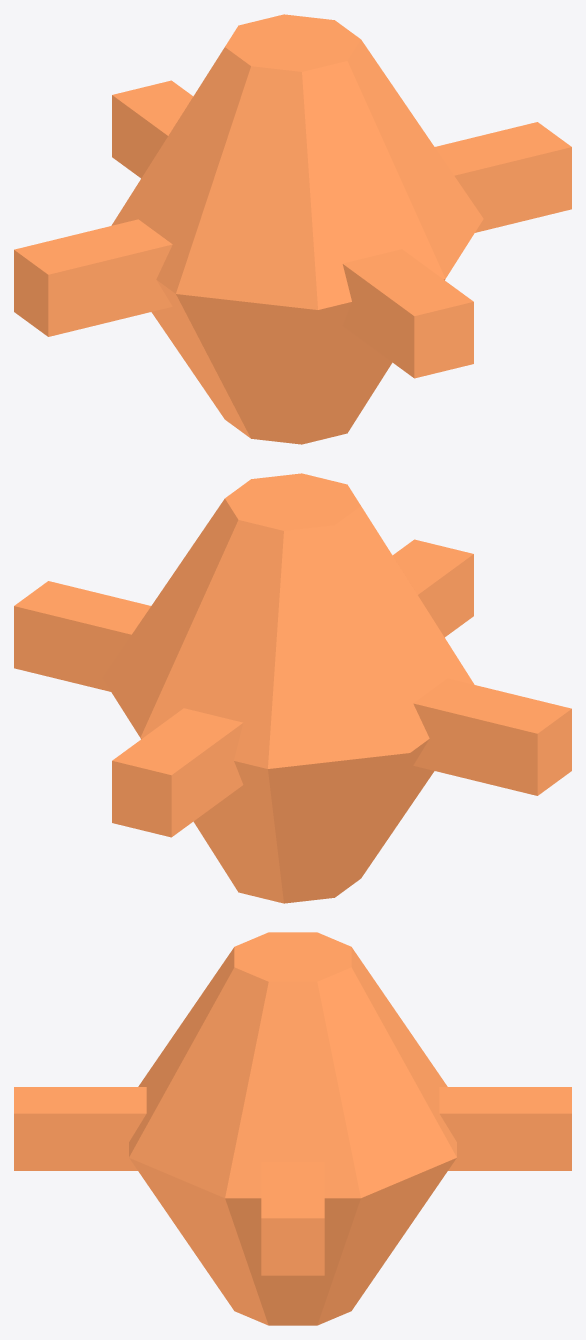
File: enemy_projectile_straight.glb
3 renders of one model, top to bottom at view 1: azimuth 30°, elevation 25°; view 2: azimuth 150°, elevation 25°; view 3: azimuth 270°, elevation 25°, orthographic. The views are drawn at different scales.
Parts seen in each view (by area): view 1: enemy_projectile_straight; view 2: enemy_projectile_straight; view 3: enemy_projectile_straight.
Boxes of the visible parts, x1,y1,x2,y2 form: enemy_projectile_straight: [14, 14, 571, 444]; enemy_projectile_straight: [14, 473, 571, 903]; enemy_projectile_straight: [14, 932, 571, 1325].
Size of the model in its own units: 0.44 by 0.2992 by 0.44.
